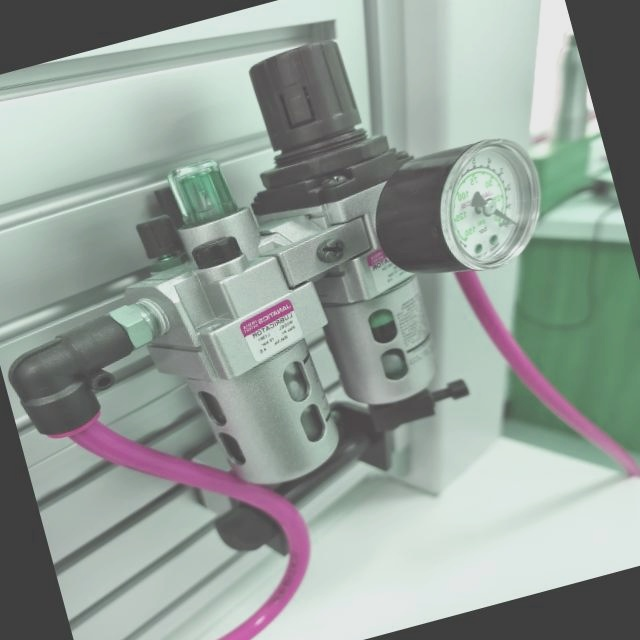FRL unit: (0, 0, 624, 615)
